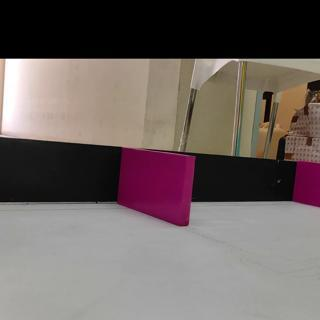xparking: (125, 155, 189, 225), (297, 162, 319, 203)
